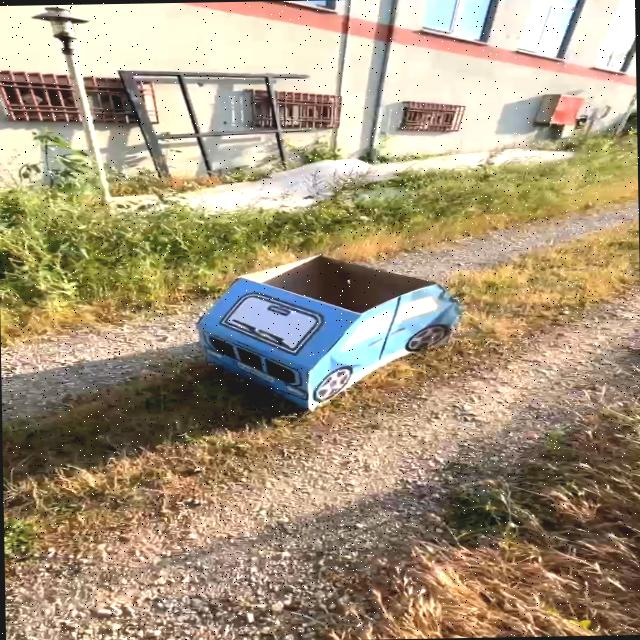blue_car: (109, 224, 526, 431)
